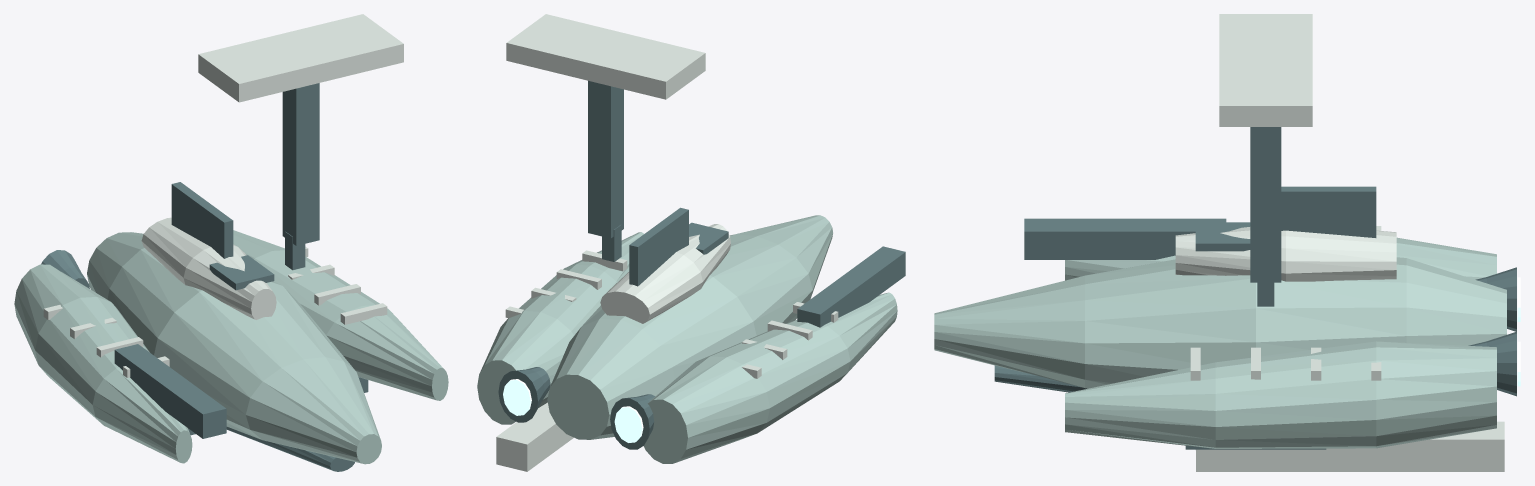
The picture shows the model from 3 angles, left to right: view 1: azimuth 30°, elevation 25°; view 2: azimuth 150°, elevation 25°; view 3: azimuth 270°, elevation 25°; orthographic projection. The views are drawn at different scales.
Size of the model in its own units: 10.63 by 11.55 by 15.08.
